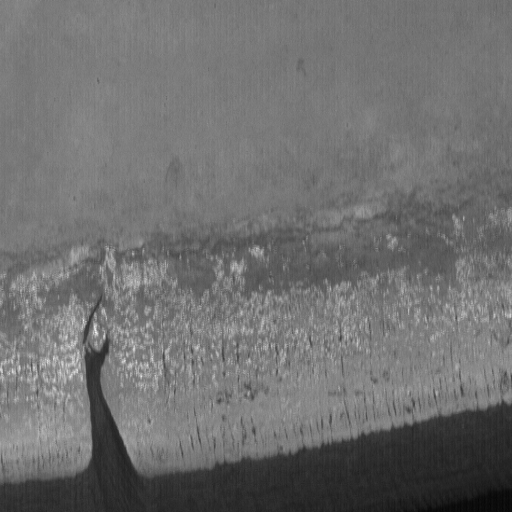aokeng: (79, 294, 154, 508)
